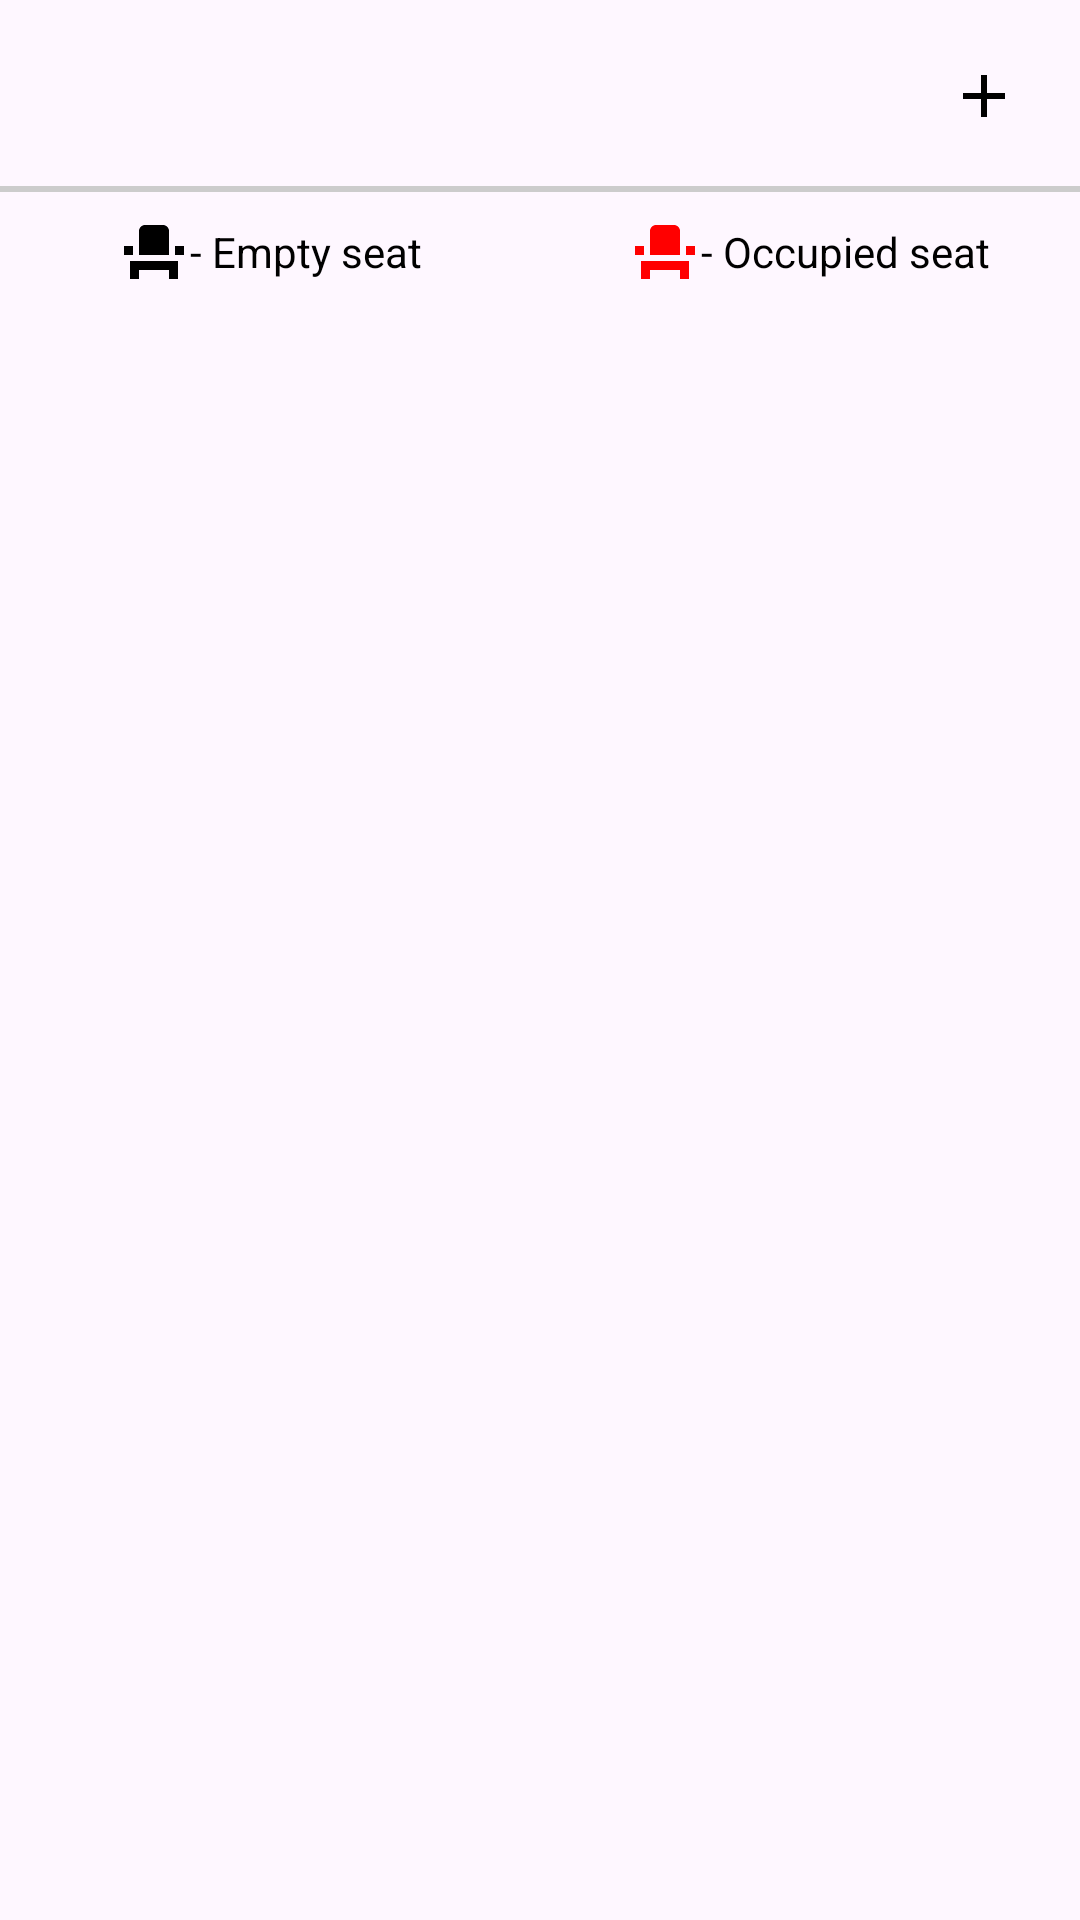

Point at icon controls on the screen. Image size 1080w x 1920h, points as [x,y].
add: [984,96]
event seat: [154,252], [665,252]
